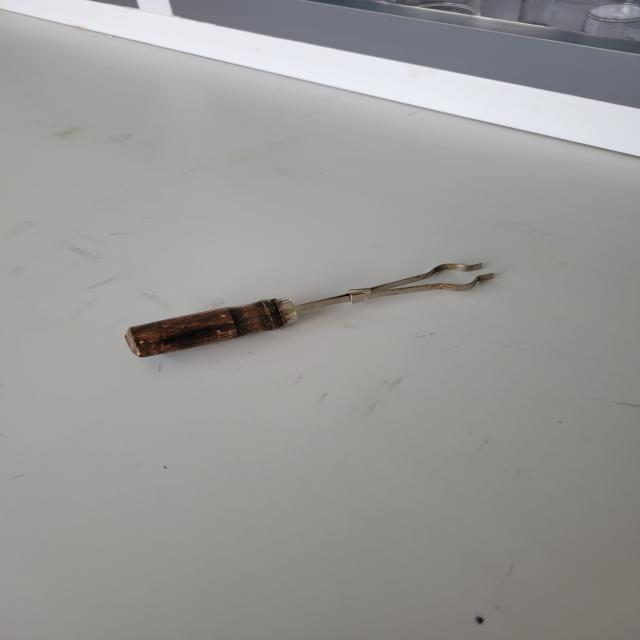TestTube_Holder: (102, 186, 531, 389)
